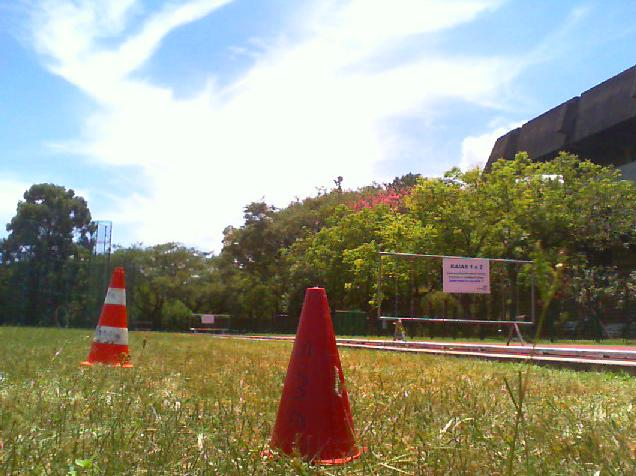0 cone: (270, 288, 370, 466), (80, 267, 134, 368)
